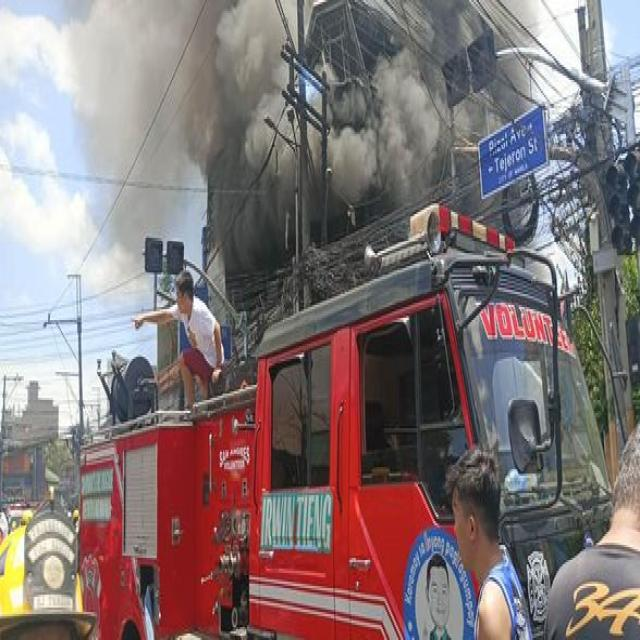Smoke: (185, 3, 454, 190), (69, 2, 207, 222)
